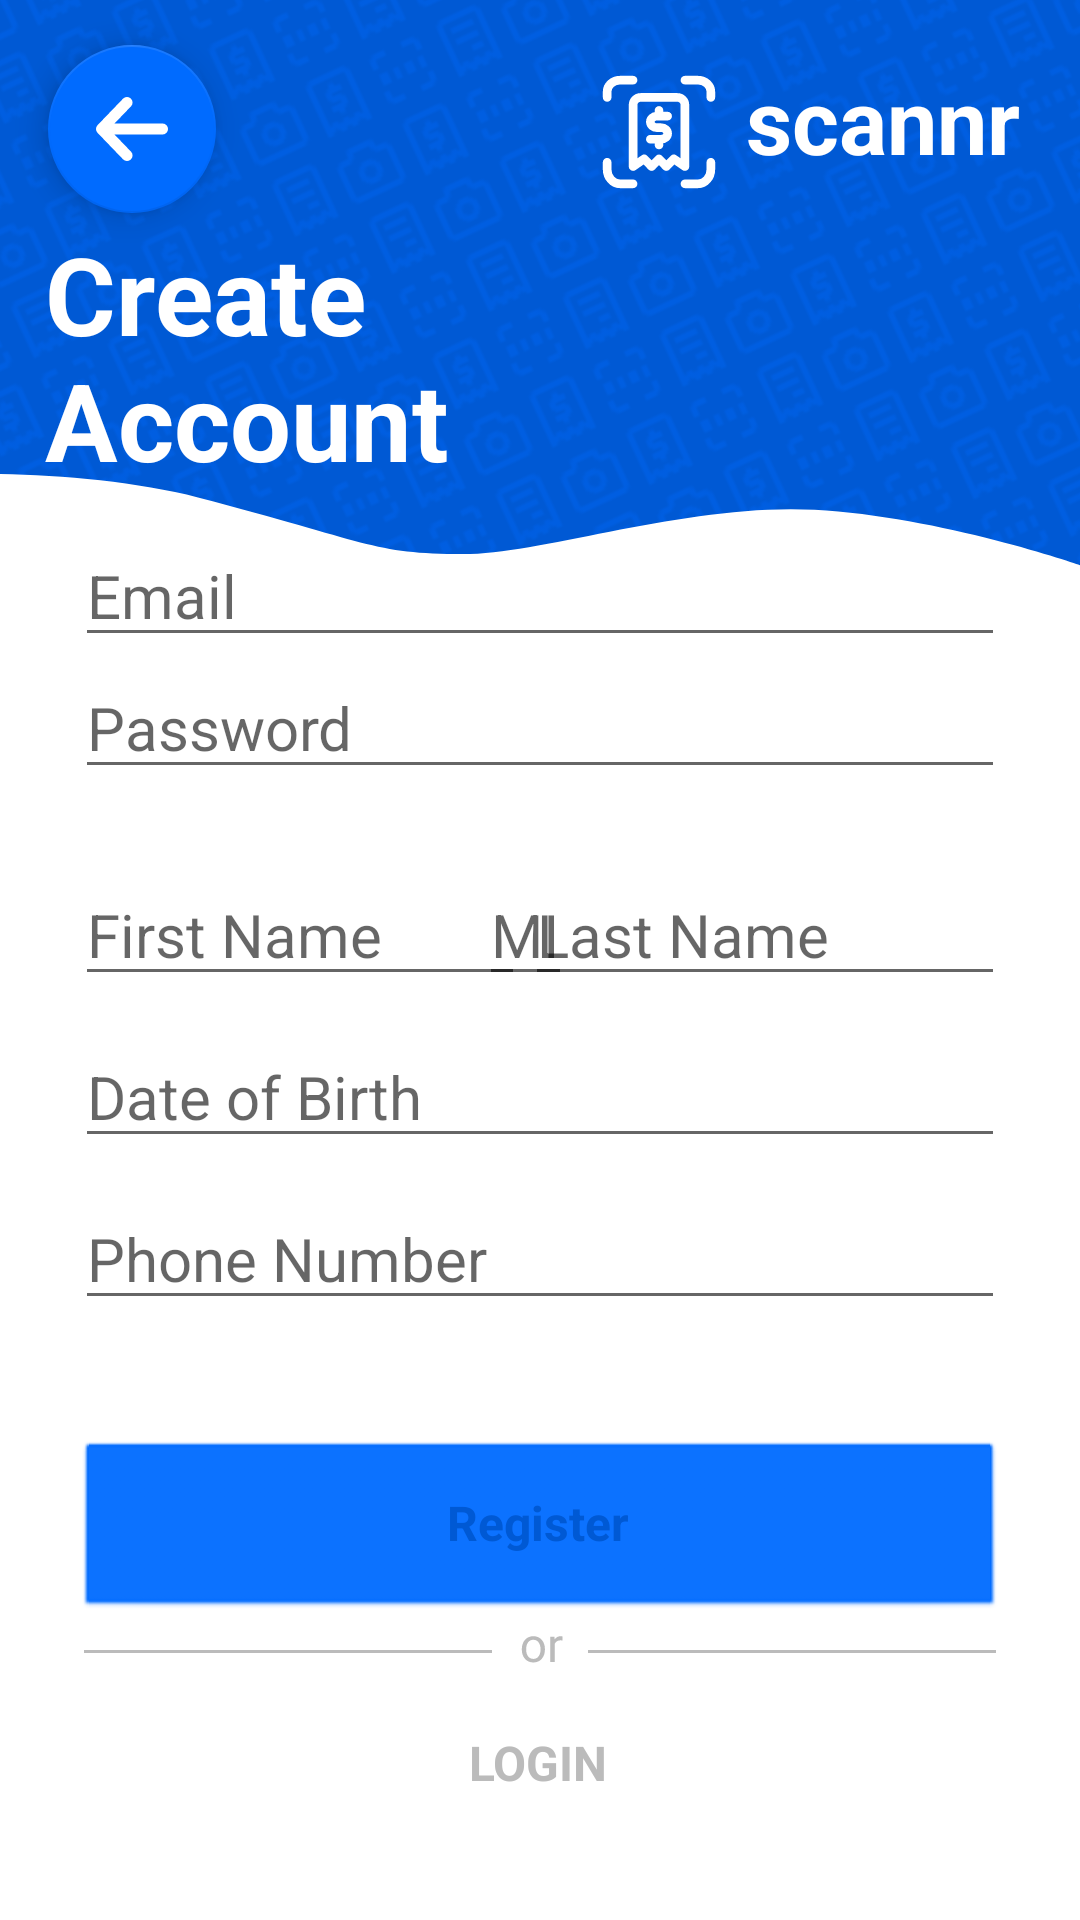

Named icons in this screenshot (1080 x 1920) and their bounding boxes, (x1, y1, x2, y2):
Back: (48, 45, 216, 213)
